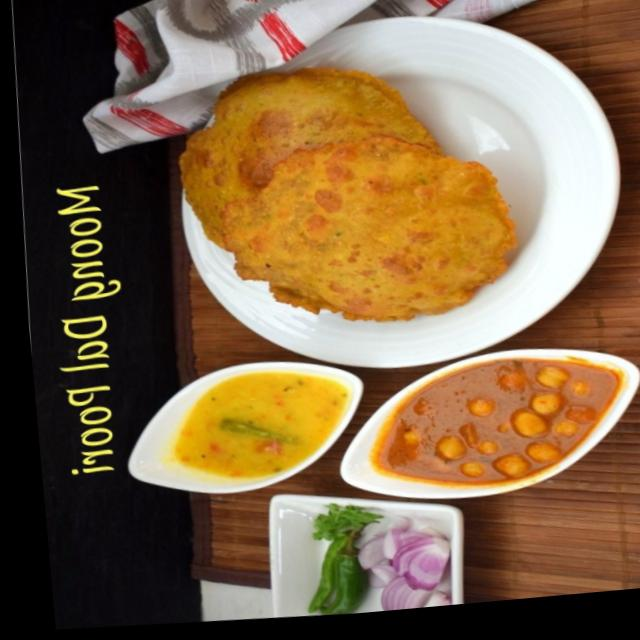CURRY: (374, 358, 622, 485)
DAL: (170, 370, 349, 478)
POORI: (176, 65, 520, 321)
